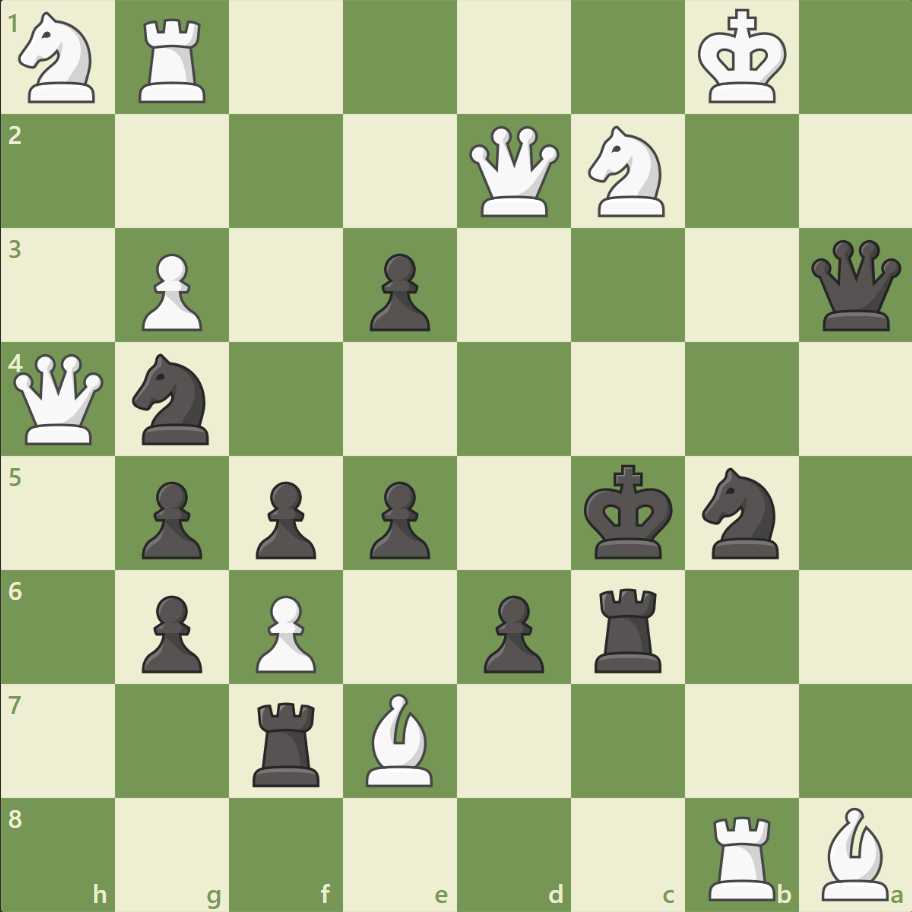B: (812, 801, 896, 904), (358, 687, 442, 790)
K: (692, 4, 792, 112)
N: (11, 7, 108, 110), (579, 121, 676, 223)
P: (247, 586, 322, 677), (133, 246, 208, 337)
Q: (10, 349, 109, 449), (464, 122, 563, 222)
R: (700, 806, 783, 904), (133, 12, 215, 109)
k: (579, 458, 679, 566)
n: (124, 348, 222, 450), (692, 461, 789, 564)
p: (474, 586, 549, 677), (133, 586, 208, 677), (247, 473, 322, 564), (133, 473, 208, 564), (361, 473, 435, 564), (361, 246, 435, 337)
q: (805, 236, 904, 335)
r: (246, 693, 329, 790), (587, 579, 670, 676)
